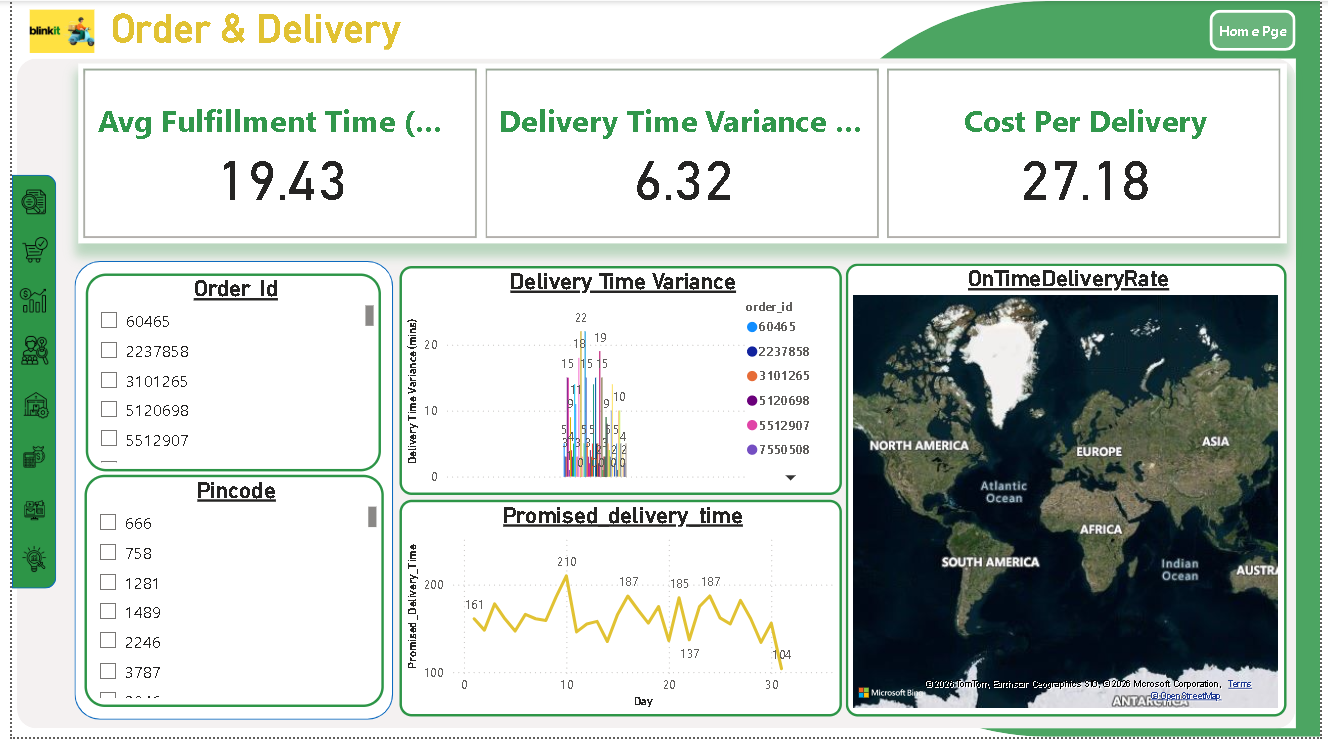

This screenshot's page, from the dashboard's own definition file:
{"tool":"powerbi","page":{"name":"Order & Delivery","canvas":[1280,720],"ordinal":2},"visuals":[{"type":"group","id":"g1","title":"Group 1","box":[0,70.9,51.4,567.4],"z":0},{"type":"shape","box":[61,253.9,311.7,448.7],"z":0,"group":"g3"},{"type":"group","id":"g2","title":"Group 2","box":[0,0,1280,719.7],"z":1000},{"type":"shape","box":[741.2,0,538.8,719.7],"z":1000,"group":"g2"},{"type":"slicer","title":"Pincode","fields":{"Values":["blinkit_customers.pincode"]},"box":[70.4,463.5,292.9,227],"z":1000,"group":"g3"},{"type":"image","box":[8.6,3.7,80.7,52.6],"z":2000},{"type":"shape","box":[0,56.3,1255.8,655.4],"z":2000,"group":"g2"},{"type":"textbox","title":"Order & Delivery","box":[91.7,3.7,313,52.6],"z":3000},{"type":"slicer","title":"Order_Id","fields":{"Values":["blinkit_delivery_performance.order_id"]},"box":[71.7,266,288.8,193.5],"z":3000,"group":"g3"},{"type":"cardVisual","fields":{"Data":["blinkit_customer_feedback.Avg Fulfillment Time (mins)","blinkit_customer_feedback.Delivery Time Variance (mins)","blinkit_customer_feedback.Cost Per Delivery"]},"box":[64.8,61.1,1182.5,176.1],"z":4000},{"type":"lineChart","title":"Promised_delivery_time","fields":{"Category":["blinkit_orders.actual_delivery_time.Variation.Date Hierarchy.Day"],"Y":["CountNonNull(blinkit_orders.promised_delivery_time)"]},"box":[378.8,487.7,432.6,212.3],"z":5000},{"type":"clusteredColumnChart","title":"Delivery Time Variance","fields":{"Y":["blinkit_customer_feedback.Delivery Time Variance (mins)"],"Series":["blinkit_delivery_performance.order_id"]},"box":[379.1,259.2,432.9,223.8],"z":5001,"group":"g2"},{"type":"filledMap","title":"OnTimeDeliveryRate","fields":{"Y":["blinkit_customer_feedback.OnTimeDeliveryRate"],"Category":["blinkit_customers.pincode"],"Series":["blinkit_customers.area"]},"box":[815.5,256.6,431.2,443.3],"z":6000},{"type":"shape","box":[0,170,43.2,404.8],"z":7000,"group":"g4"},{"type":"group","id":"g3","title":"Group 2","box":[61,253.9,311.7,448.7],"z":7000},{"type":"group","id":"g4","title":"Group 1","box":[0,170,46.5,404.8],"z":8000},{"type":"shape","box":[1171.5,8.6,84.4,40.4],"z":9000},{"type":"image","box":[0,70.9,45.2,50.1],"z":9000,"group":"g1"},{"type":"image","box":[0.8,179.2,40,34],"z":9000,"group":"g4"},{"type":"image","box":[0,140.6,47.7,51.4],"z":10000,"group":"g1"},{"type":"image","box":[0.8,226.5,42.1,34.8],"z":10000,"group":"g4"},{"type":"image","box":[0,211.5,44,52.6],"z":11000,"group":"g1"},{"type":"image","box":[0.8,274.6,38.9,35.7],"z":11000,"group":"g4"},{"type":"image","box":[0,282.5,47.7,56.3],"z":12000,"group":"g1"},{"type":"image","box":[0.8,322.7,42.1,38.2],"z":12000,"group":"g4"},{"type":"image","box":[0,363.2,51.4,52.6],"z":13000,"group":"g1"},{"type":"image","box":[0.8,377.4,45.4,35.7],"z":13000,"group":"g4"},{"type":"image","box":[0.8,430.5,41.1,31.5],"z":14000,"group":"g4"},{"type":"image","box":[0,441.4,46.5,46.5],"z":14000,"group":"g1"},{"type":"image","box":[0.8,483.6,42.1,30.7],"z":15000,"group":"g4"},{"type":"image","box":[0,519.7,47.7,45.2],"z":15000,"group":"g1"},{"type":"image","box":[1.9,528.4,38.9,35.7],"z":16000,"group":"g4"},{"type":"image","box":[1.2,585.7,44,52.6],"z":16000,"group":"g1"}]}

Visuals, with their boxes on the page's 1280x720 design canvas (x1, y1, x2, y2). These are canvas units, not pixel positions in the 1328x745 screenshot, which may show the page scaled, cropped or inside an application window:
"Group 1" group: bbox(0, 71, 51, 638)
shape: bbox(61, 254, 373, 703)
"Group 2" group: bbox(0, 0, 1280, 720)
shape: bbox(741, 0, 1280, 720)
"Pincode" slicer: bbox(70, 464, 363, 690)
image: bbox(9, 4, 89, 56)
shape: bbox(0, 56, 1256, 712)
"Order & Delivery" textbox: bbox(92, 4, 405, 56)
"Order_Id" slicer: bbox(72, 266, 360, 460)
cardVisual - blinkit_customer_feedback.Avg Fulfillment Time (mins) x blinkit_customer_feedback.Delivery Time Variance (mins): bbox(65, 61, 1247, 237)
"Promised_delivery_time" lineChart: bbox(379, 488, 811, 700)
"Delivery Time Variance" clusteredColumnChart: bbox(379, 259, 812, 483)
"OnTimeDeliveryRate" filledMap: bbox(816, 257, 1247, 700)
shape: bbox(0, 170, 43, 575)
"Group 2" group: bbox(61, 254, 373, 703)
"Group 1" group: bbox(0, 170, 46, 575)
shape: bbox(1172, 9, 1256, 49)
image: bbox(0, 71, 45, 121)
image: bbox(1, 179, 41, 213)
image: bbox(0, 141, 48, 192)
image: bbox(1, 226, 43, 261)
image: bbox(0, 212, 44, 264)
image: bbox(1, 275, 40, 310)
image: bbox(0, 282, 48, 339)
image: bbox(1, 323, 43, 361)
image: bbox(0, 363, 51, 416)
image: bbox(1, 377, 46, 413)
image: bbox(1, 430, 42, 462)
image: bbox(0, 441, 46, 488)
image: bbox(1, 484, 43, 514)
image: bbox(0, 520, 48, 565)
image: bbox(2, 528, 41, 564)
image: bbox(1, 586, 45, 638)
